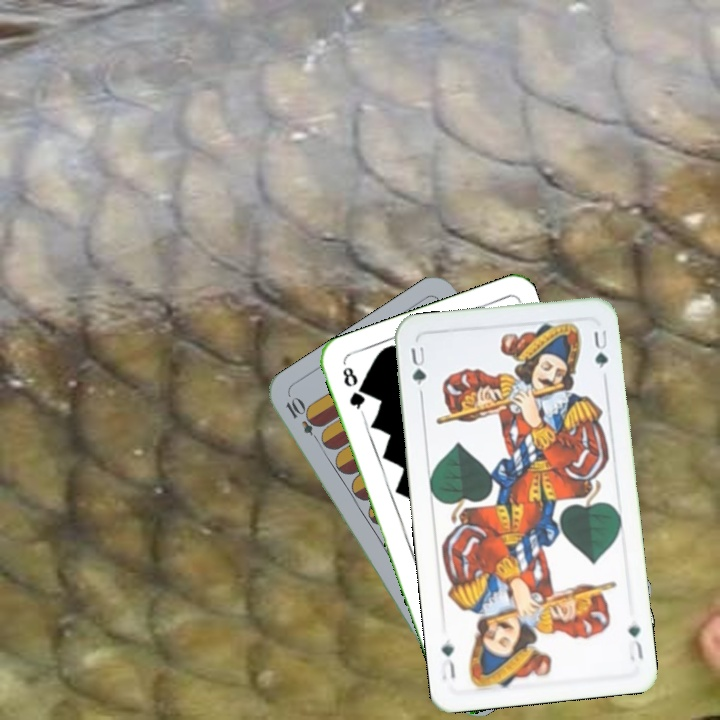E10: (281, 393, 325, 447)
G8: (338, 362, 368, 418)
GU: (406, 342, 429, 388), (623, 620, 646, 665)
